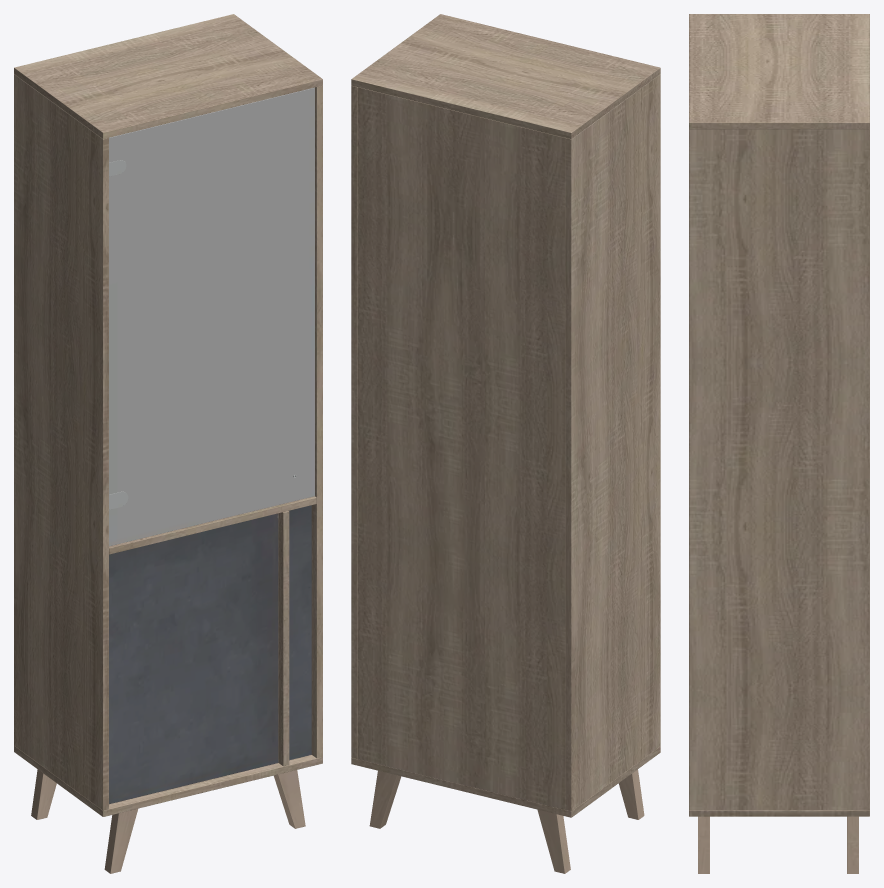
Rendered from abo-B07H8PQFR2.glb.
The picture shows the model from 3 angles, left to right: view 1: azimuth 30°, elevation 25°; view 2: azimuth 150°, elevation 25°; view 3: azimuth 270°, elevation 25°; orthographic projection.
Bounding box in the file's own units: 0.57 × 1.85 × 0.4.
1 material, 1 textured.
